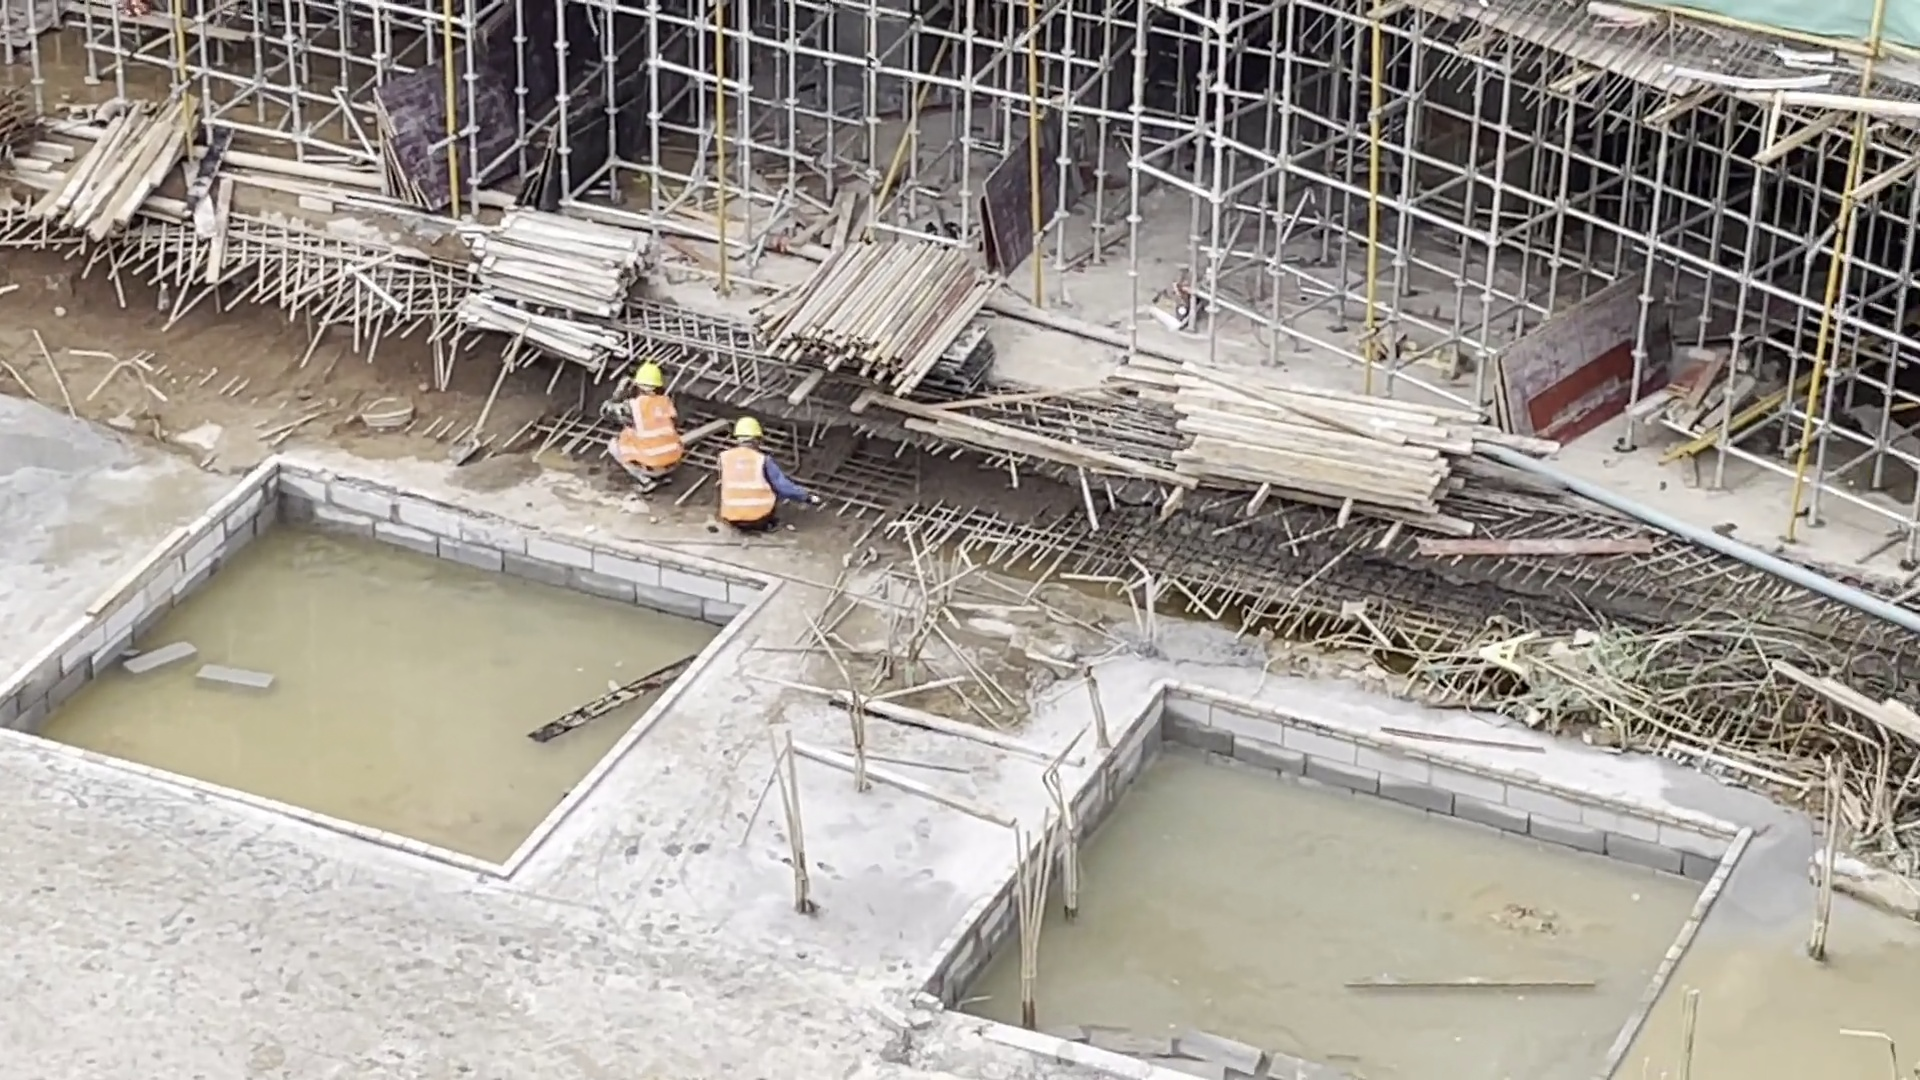helmet: (733, 417, 765, 440), (636, 361, 665, 387)
person: (715, 416, 829, 536), (600, 359, 691, 499)
vest: (609, 392, 680, 470), (718, 446, 773, 526)
wood: (1172, 359, 1485, 538), (457, 197, 660, 361), (27, 93, 207, 235)
